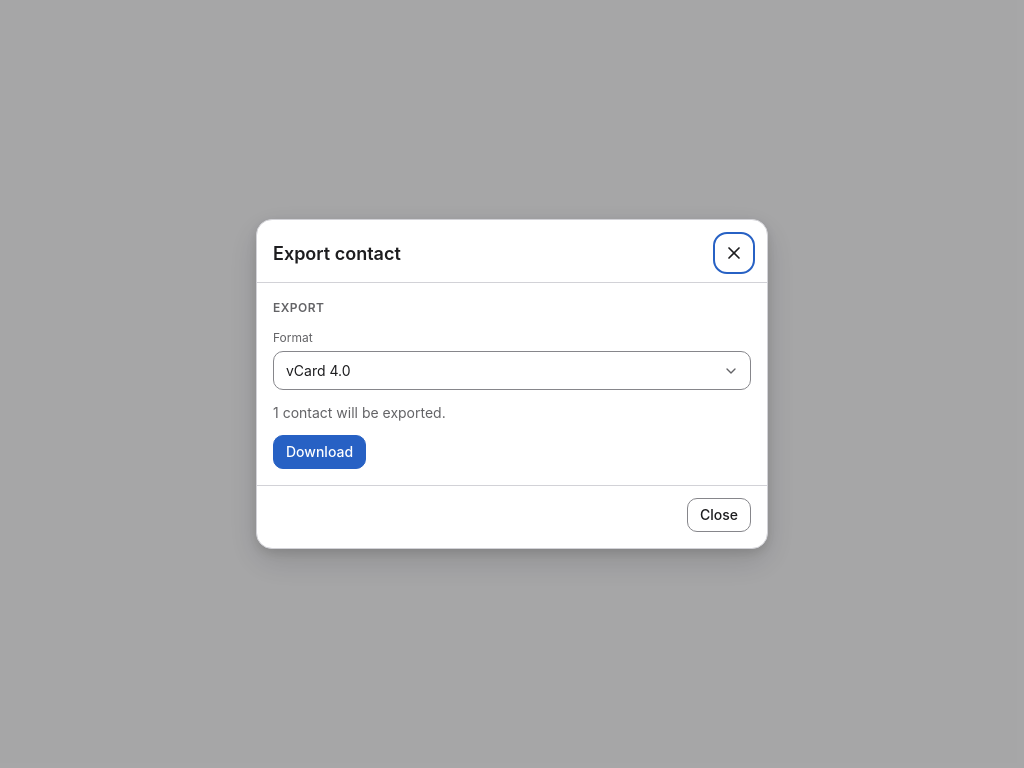
ContactImportExportDialog — export › names the failure instead of doing nothing visible
The image size is (1024, 768).
Click the button "Download": (320, 452) [273,435,366,469]
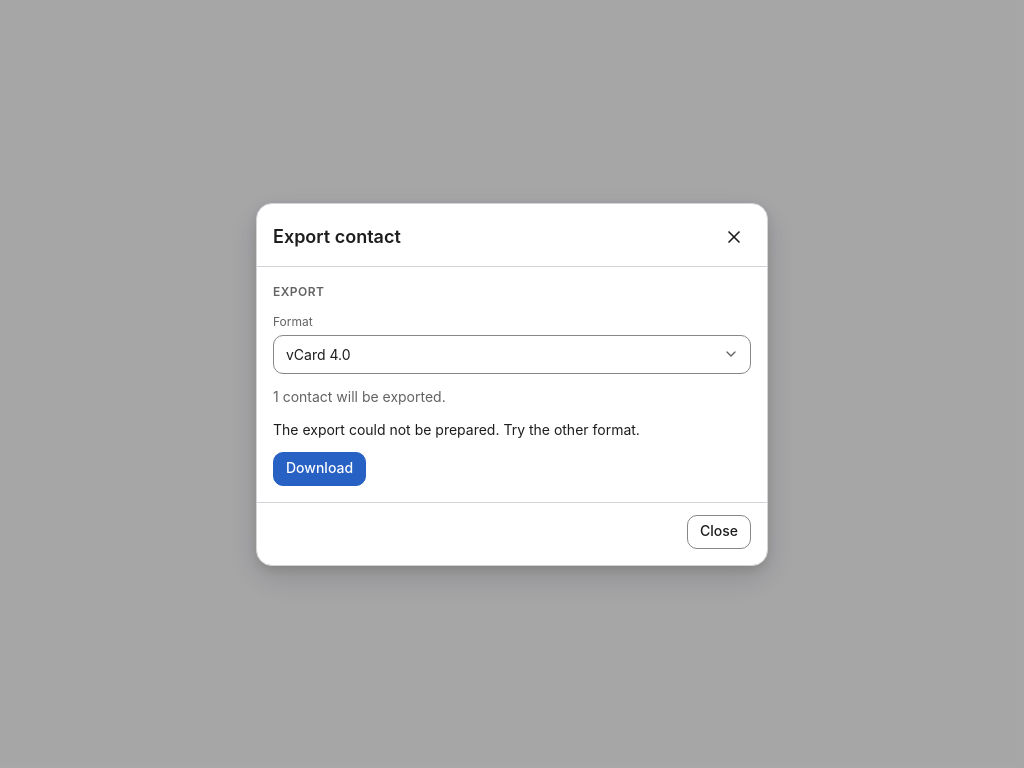
Check: the message shows "could not be prepared", box [273,420,640,438]
